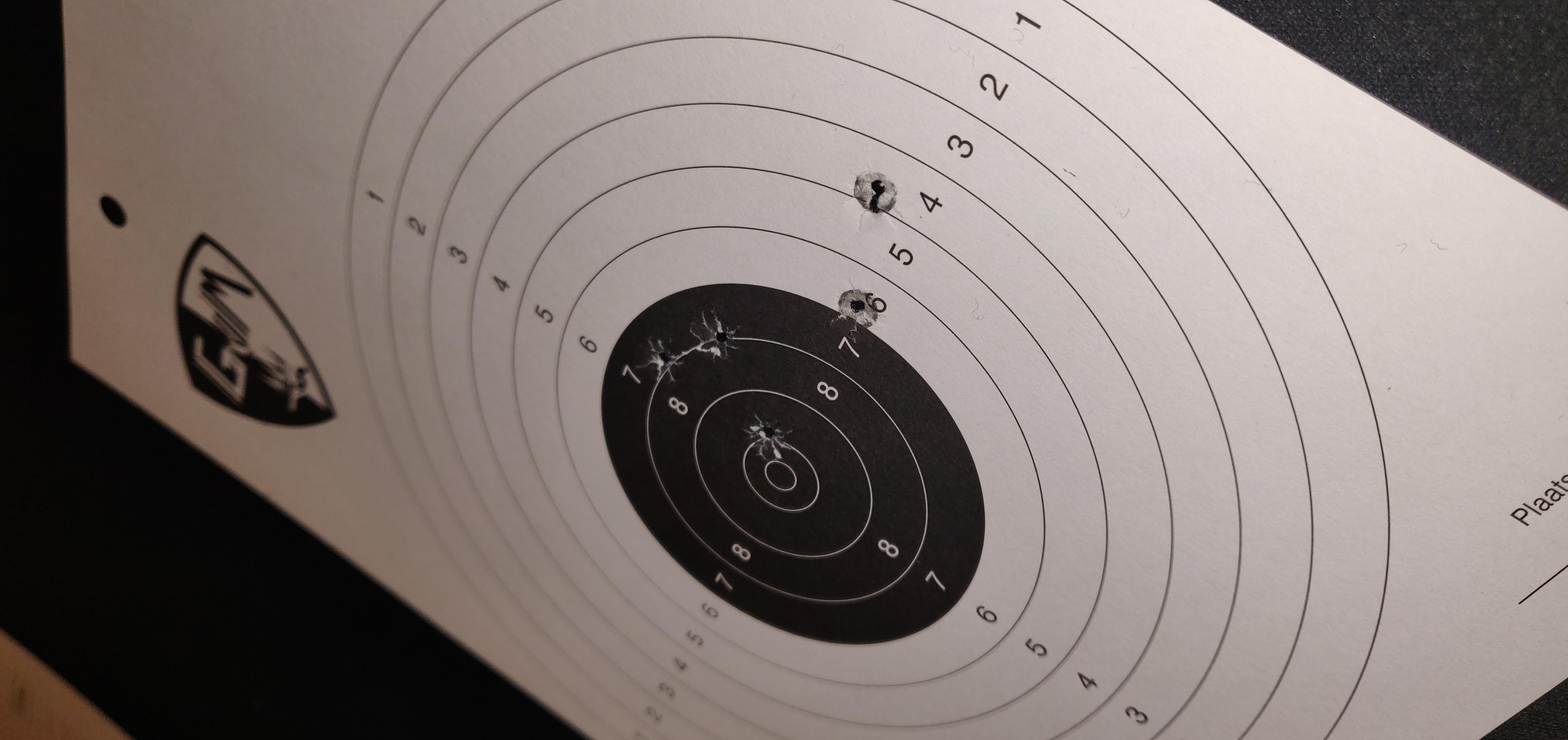hole: (670, 520, 719, 575), (829, 381, 877, 429), (690, 406, 736, 453), (886, 355, 927, 406), (783, 285, 823, 325)
